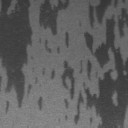red iron: (0, 0, 128, 128), (38, 98, 42, 110)
